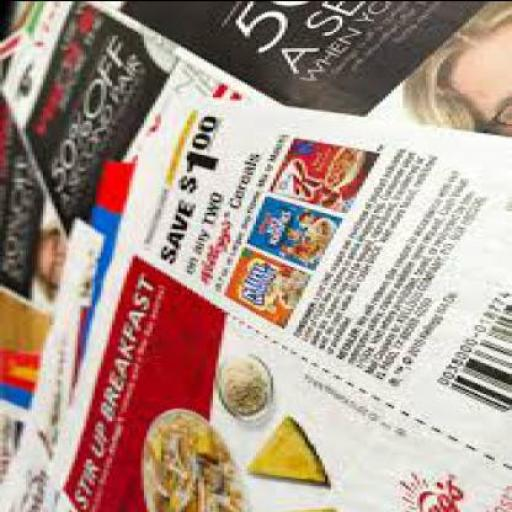paper: (40, 98, 509, 511), (0, 2, 239, 252), (113, 2, 509, 137), (0, 29, 69, 317), (0, 290, 49, 425), (1, 426, 40, 512)
